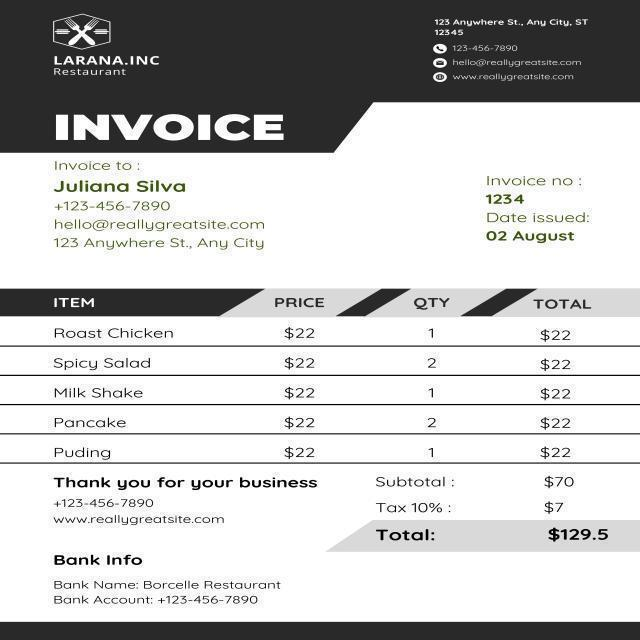paragraph: (29, 156, 276, 258), (358, 475, 629, 550), (43, 472, 330, 535), (46, 545, 294, 615), (431, 16, 614, 85), (45, 109, 294, 151), (483, 172, 602, 248), (49, 53, 172, 78)
table: (35, 285, 632, 466)
